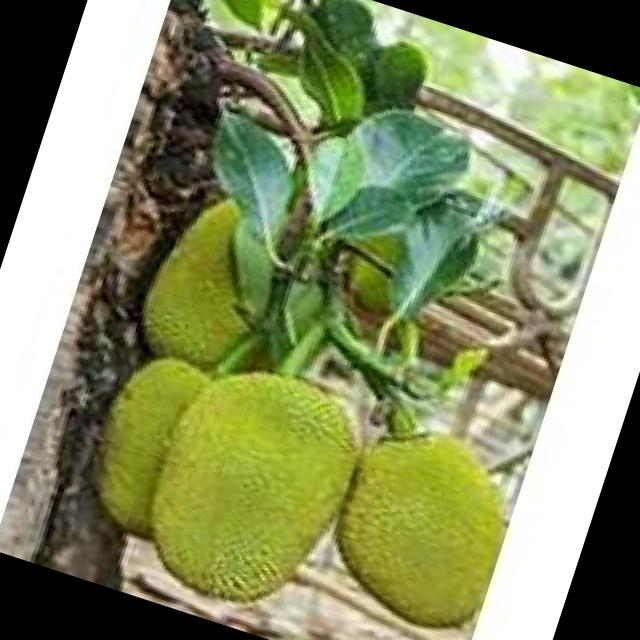Fruit: (38, 303, 400, 640), (299, 393, 546, 640)
